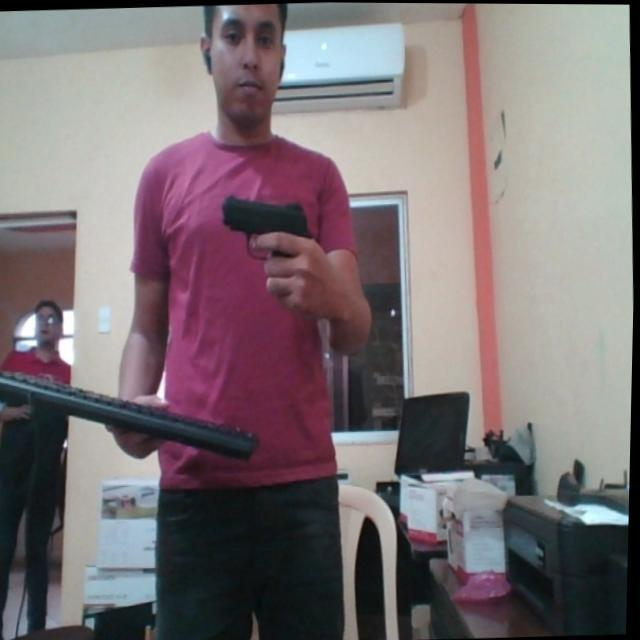weapon: (214, 190, 315, 264)
